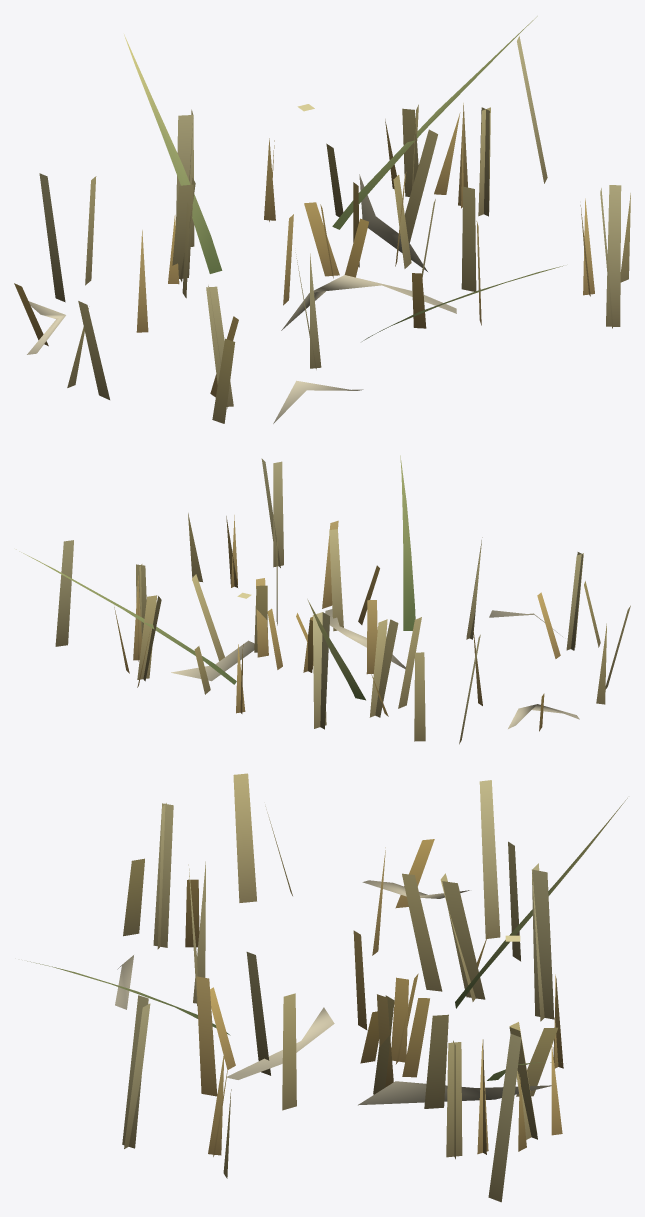
Rendered from CutStubblePatch_LOD0.glb.
The picture shows the model from 3 angles, top to bottom: view 1: azimuth 30°, elevation 25°; view 2: azimuth 150°, elevation 25°; view 3: azimuth 270°, elevation 25°; orthographic projection. The views are drawn at different scales.
Parts seen in each view (by area): view 1: CutStubblePatch_LOD0; view 2: CutStubblePatch_LOD0; view 3: CutStubblePatch_LOD0.
Part boxes in pixels (left/top/right/bottom): CutStubblePatch_LOD0: left=14, top=16, right=630, bottom=423; CutStubblePatch_LOD0: left=16, top=455, right=630, bottom=744; CutStubblePatch_LOD0: left=27, top=773, right=627, bottom=1202.
Bounding box in the file's own units: 0.2494 × 0.0792 × 0.1995.
